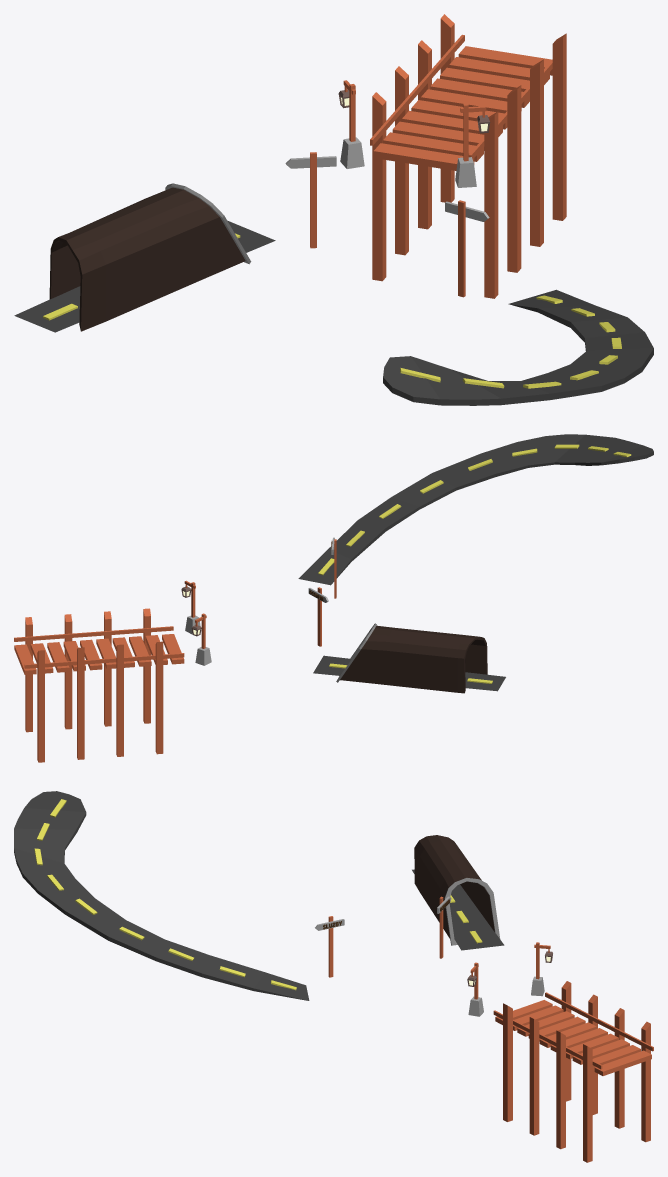
Rendered from bridge.glb.
The picture shows the model from 3 angles, top to bottom: view 1: azimuth 30°, elevation 25°; view 2: azimuth 150°, elevation 25°; view 3: azimuth 270°, elevation 25°; orthographic projection. The views are drawn at different scales.
Visible parts, largest first — view 1: Plane.032, Cube, Vert.025, Plane.033, Cube.002, Plane.031, Cube.042, Cube.041, Plane.002, Plane.023, Cube.003; view 2: Vert.025, Cube, Plane.032, Plane.033, Plane.031, Cube.002, Cube.041; view 3: Vert.025, Plane.032, Plane.033, Cube, Cube.002, Plane.031, Cube.003.
Boxes of the visible parts, bbox=[...] form: Plane.032: bbox=[372, 14, 566, 298]; Cube: bbox=[49, 187, 245, 331]; Vert.025: bbox=[383, 289, 653, 405]; Plane.033: bbox=[373, 46, 552, 170]; Cube.002: bbox=[14, 220, 275, 332]; Plane.031: bbox=[370, 34, 552, 159]; Cube.042: bbox=[455, 103, 490, 187]; Cube.041: bbox=[338, 80, 364, 168]; Plane.002: bbox=[458, 200, 465, 297]; Plane.023: bbox=[310, 152, 316, 248]; Cube.003: bbox=[165, 183, 251, 264]; Vert.025: bbox=[298, 434, 653, 585]; Cube: bbox=[340, 625, 487, 693]; Plane.032: bbox=[25, 608, 163, 762]; Plane.033: bbox=[14, 634, 184, 674]; Plane.031: bbox=[14, 626, 184, 668]; Cube.002: bbox=[313, 655, 505, 691]; Cube.041: bbox=[191, 613, 211, 665]; Vert.025: bbox=[14, 791, 309, 1000]; Plane.032: bbox=[503, 981, 650, 1162]; Plane.033: bbox=[495, 1000, 651, 1075]; Cube: bbox=[414, 835, 494, 938]; Cube.002: bbox=[412, 869, 504, 950]; Plane.031: bbox=[493, 992, 653, 1069]; Cube.003: bbox=[444, 878, 500, 945].
Size of the model in its own units: 12.46 by 5.18 by 16.18.
